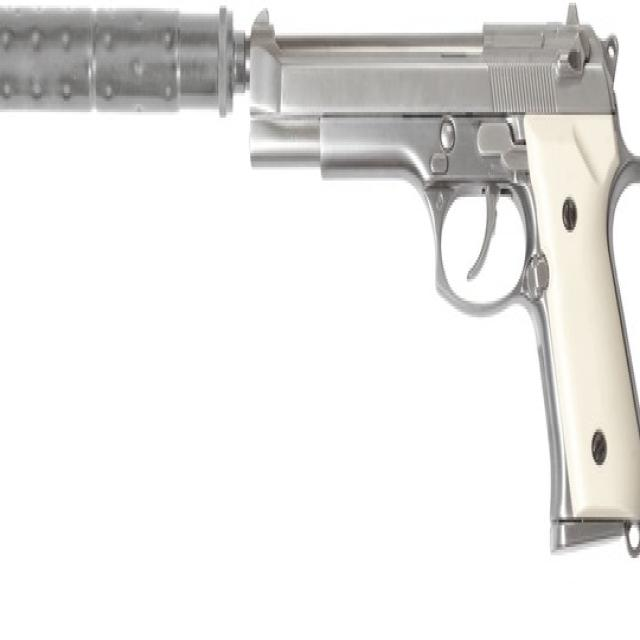Gun: (240, 0, 640, 555)
